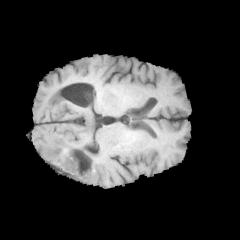glioma: (37, 138, 95, 185)
